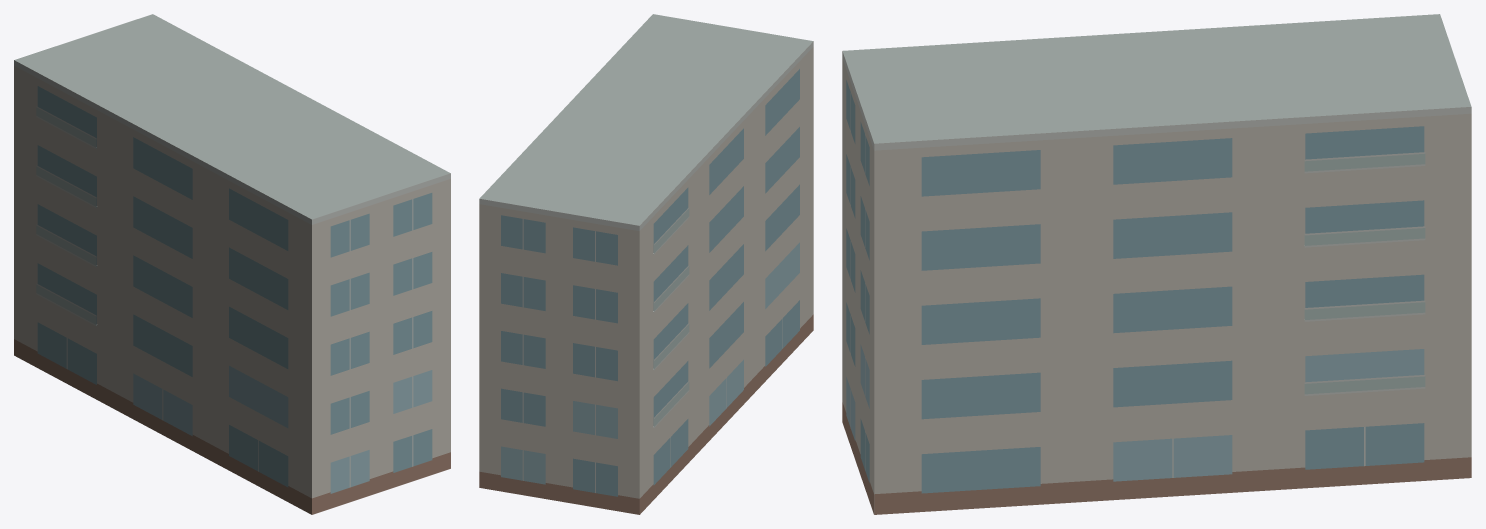
The model's file is survey-upis-32579736.glb.
3 views of the same model, side by side, from view 1: azimuth 30°, elevation 25°; view 2: azimuth 150°, elevation 25°; view 3: azimuth 270°, elevation 25° (orthographic). The views are drawn at different scales.
Visible parts, largest first — view 1: survey-upis-32579736.tmp; view 2: survey-upis-32579736.tmp; view 3: survey-upis-32579736.tmp.
Part boxes in pixels (x1,y1,x2,y2): survey-upis-32579736.tmp: (14,14,450,514); survey-upis-32579736.tmp: (479,14,813,514); survey-upis-32579736.tmp: (842,14,1471,514).
Bounding box in the file's own units: 9.9 × 13.2 × 20.29.
